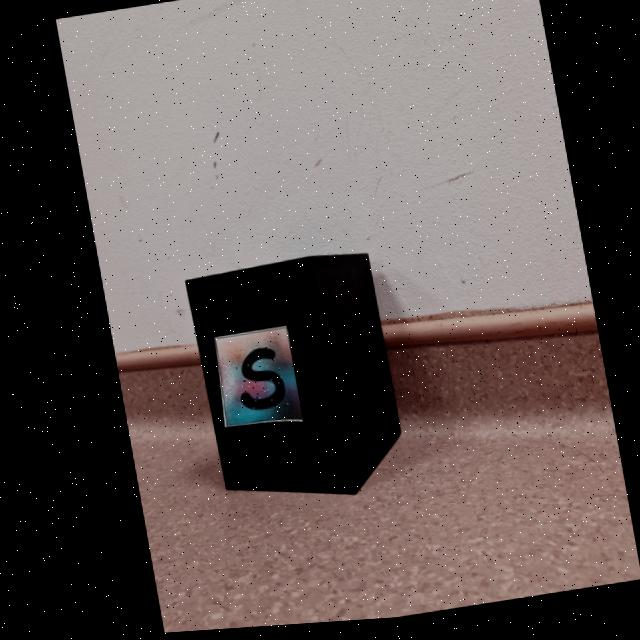S: (232, 351, 278, 412)
